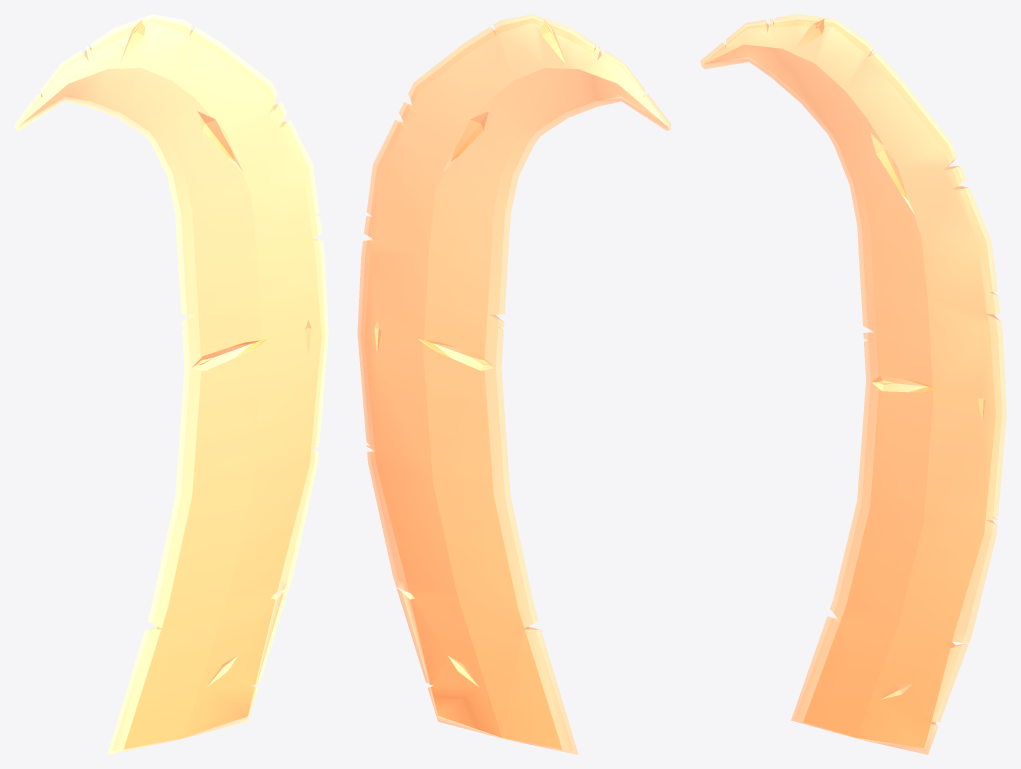
File: wood_blade_scratched_065.glb
3 views of the same model, side by side, from view 1: azimuth 30°, elevation 25°; view 2: azimuth 150°, elevation 25°; view 3: azimuth 330°, elevation 25° (orthographic). The views are drawn at different scales.
Visible parts, largest first — view 1: wood_blade_scratched.065; view 2: wood_blade_scratched.065; view 3: wood_blade_scratched.065.
Part boxes in pixels (x1,y1,x2,y2): wood_blade_scratched.065: (14,14,328,754); wood_blade_scratched.065: (357,14,671,754); wood_blade_scratched.065: (700,14,1006,754).
Size of the model in its own units: 4.65 by 10.35 by 0.241.
1 material, 1 textured.
